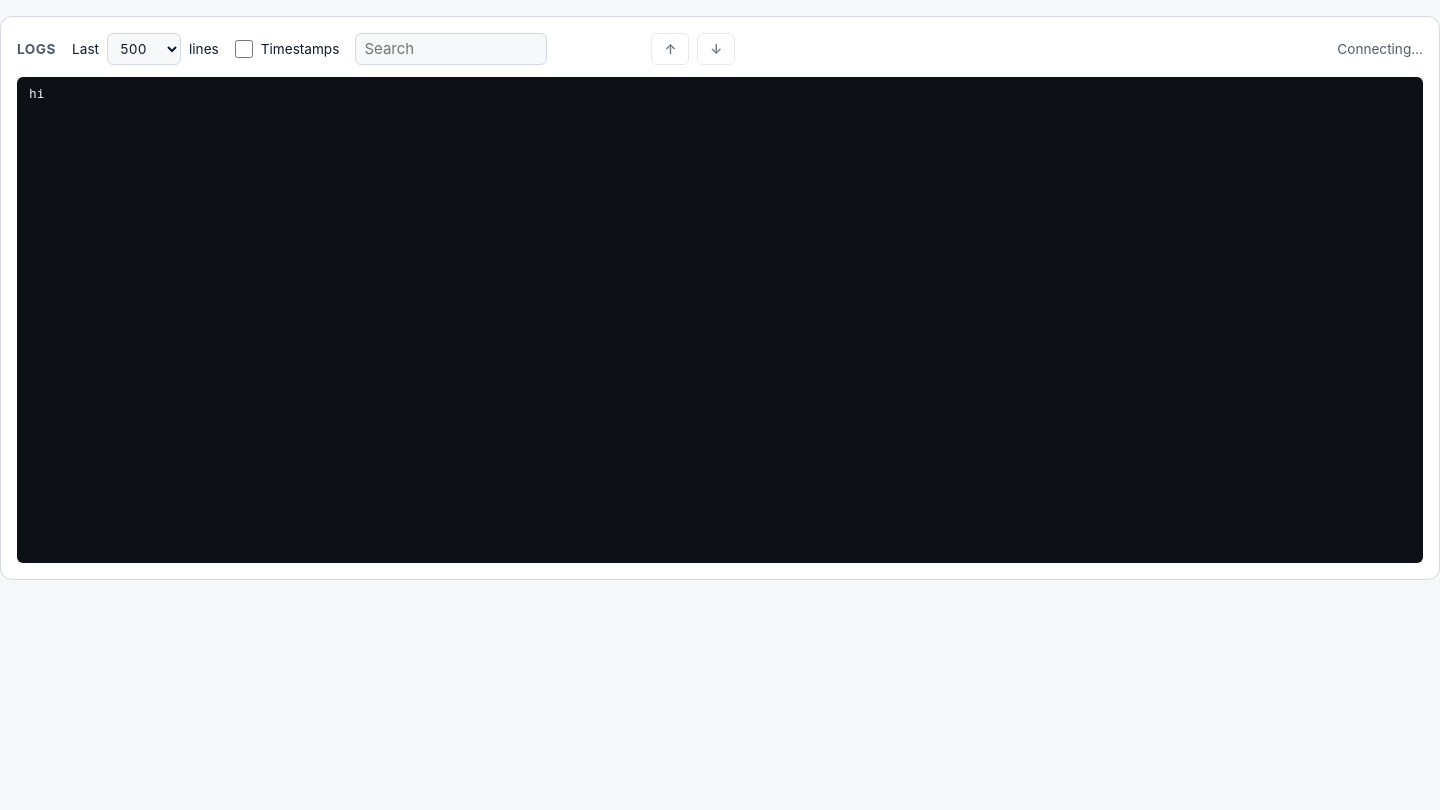
Test: LogViewer › shows timestamps when asked
Check: the element with test id "log-line" reads "hi", box [29, 86, 44, 101]
Click the checkbox labelled "Timestamps" at (244, 49), box [235, 40, 253, 58]
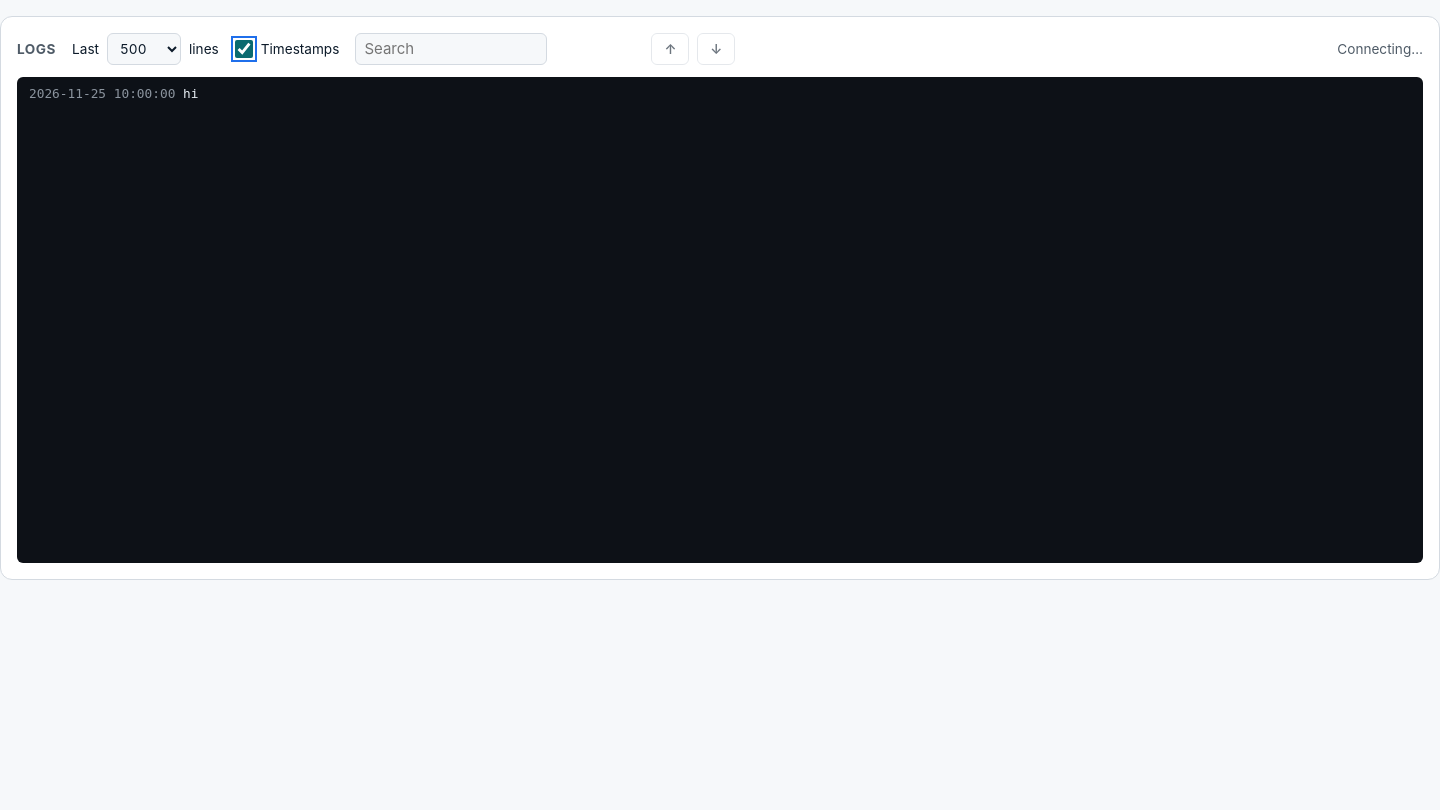
Check: the element with test id "log-line" reads "2026-11-25 10:00:00 hi", box [29, 86, 198, 101]
